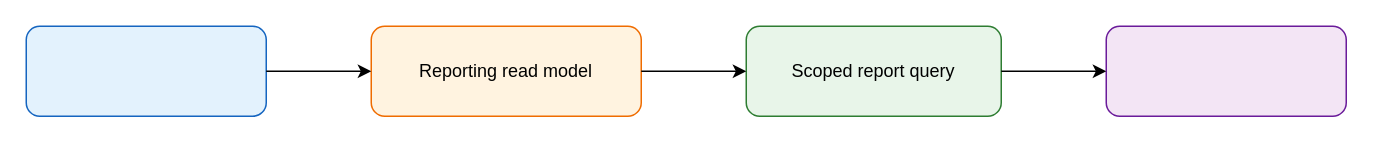
Some shapes in this 1373 by 143 pixel diagram are drawn without their labels. Here are the shapes that lost their labels. From the top down, the centre of each, then its label:
point (145, 70): Source domains
point (1225, 70): Async export job
